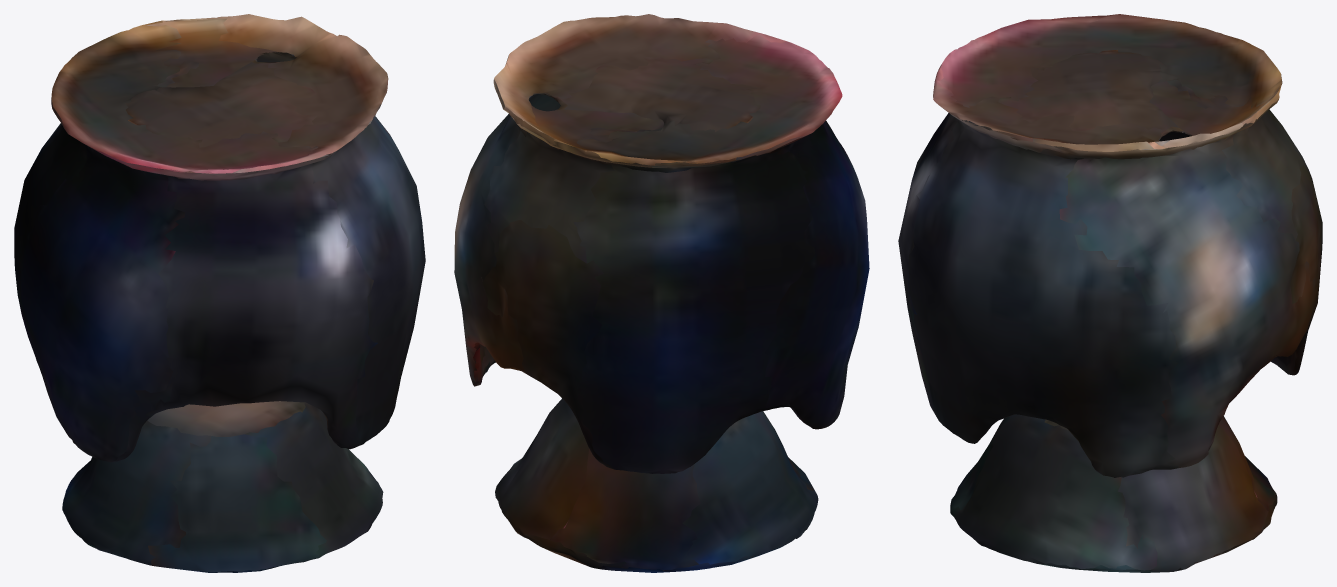
3 renders of one model, left to right at view 1: azimuth 30°, elevation 25°; view 2: azimuth 150°, elevation 25°; view 3: azimuth 270°, elevation 25°, orthographic.
Parts seen in each view (by area): view 1: world; view 2: world; view 3: world.
Part boxes in pixels (<box>): world: <box>14,14,425,572</box>; world: <box>454,14,869,572</box>; world: <box>898,14,1322,572</box>.
Size of the model in its own units: 0.2312 by 0.2677 by 0.2344.
Materials: 1 (1 with a texture image).
